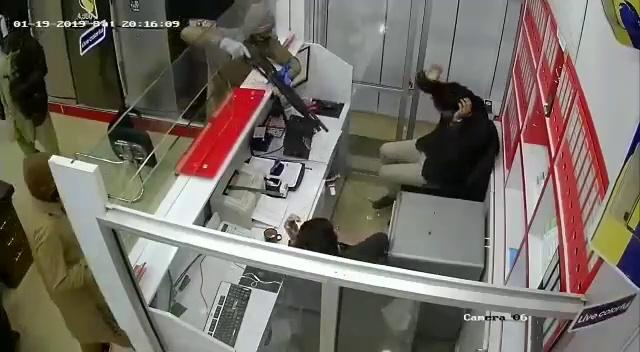weapon: (242, 40, 329, 136)
